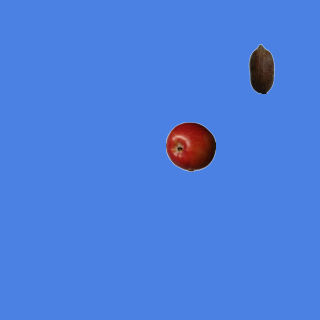Apple Braeburn: (165, 121, 215, 171)
Nut Pecan: (236, 43, 286, 93)
